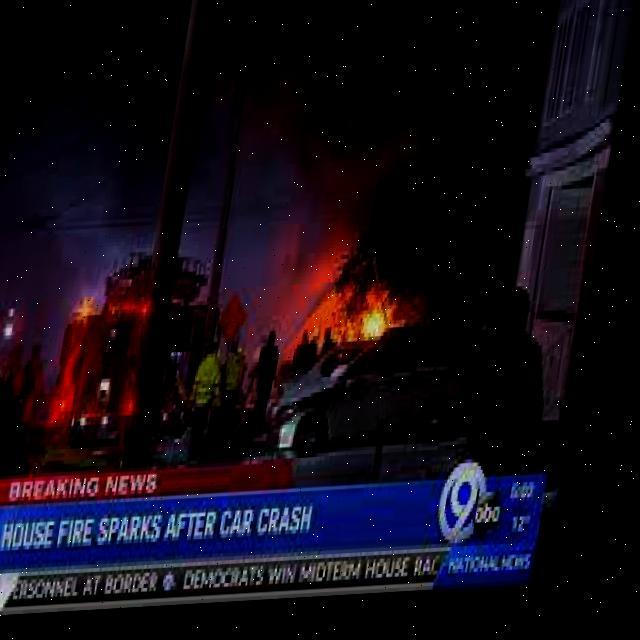Fire: (328, 272, 432, 356)
